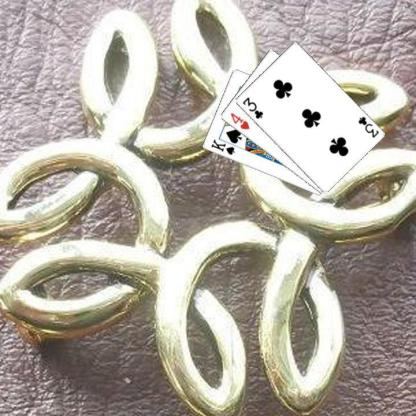3C: (240, 95, 264, 120), (356, 114, 380, 139)
4H: (228, 109, 250, 130)
KS: (208, 137, 236, 156)
